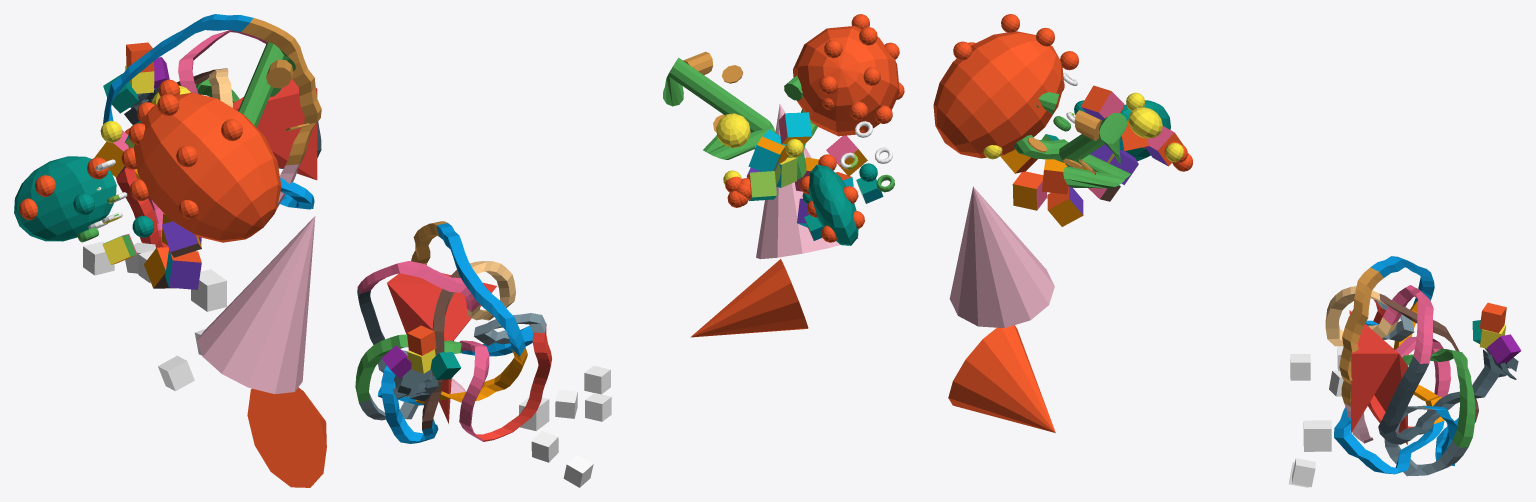
The picture shows the model from 3 angles, left to right: view 1: azimuth 30°, elevation 25°; view 2: azimuth 150°, elevation 25°; view 3: azimuth 270°, elevation 25°; orthographic projection. The views are drawn at different scales.
Visible parts, largest first — view 1: group_1816819236, group_484557512; view 2: group_1816819236, group_484557512; view 3: group_1816819236, group_484557512.
Part boxes in pixels (<box>): group_1816819236: <box>14,42,326,487</box>; group_484557512: <box>83,14,321,391</box>; group_1816819236: <box>663,14,904,337</box>; group_484557512: <box>355,221,611,487</box>; group_1816819236: <box>933,14,1192,432</box>; group_484557512: <box>1289,256,1521,487</box>.
Size of the model in its own units: 22.36 by 22.1 by 29.54.
